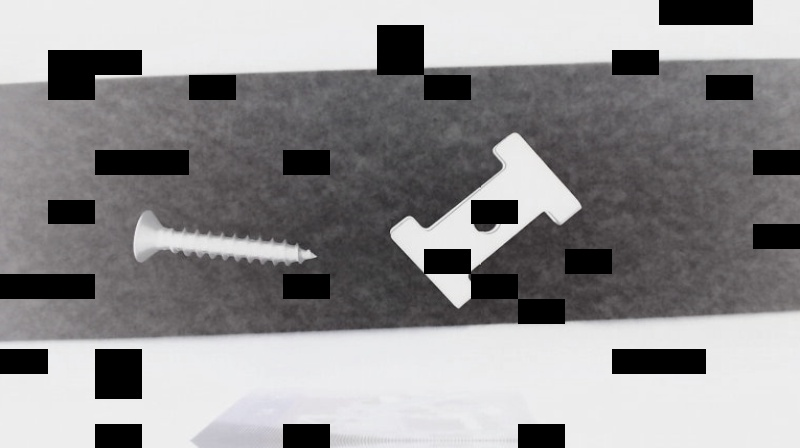O002: (382, 130, 585, 311)
S001: (129, 205, 327, 269)
